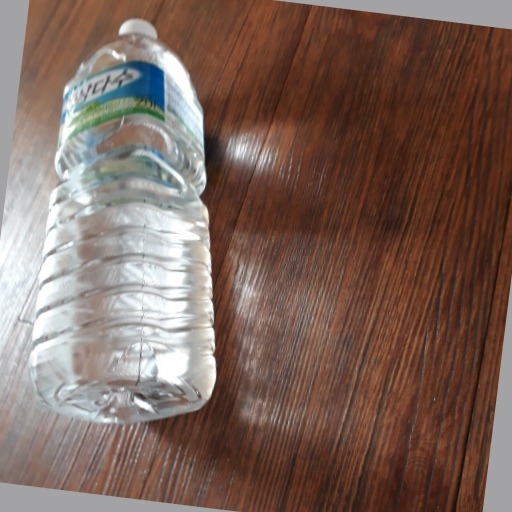Plastic_0: (28, 17, 217, 419)
